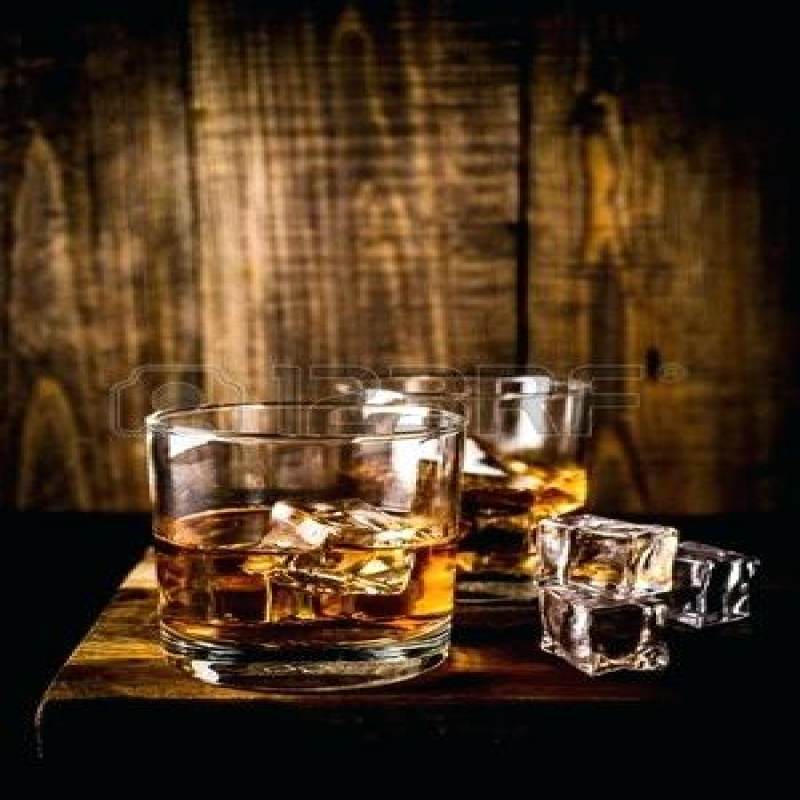whiskey: (156, 392, 461, 681)
